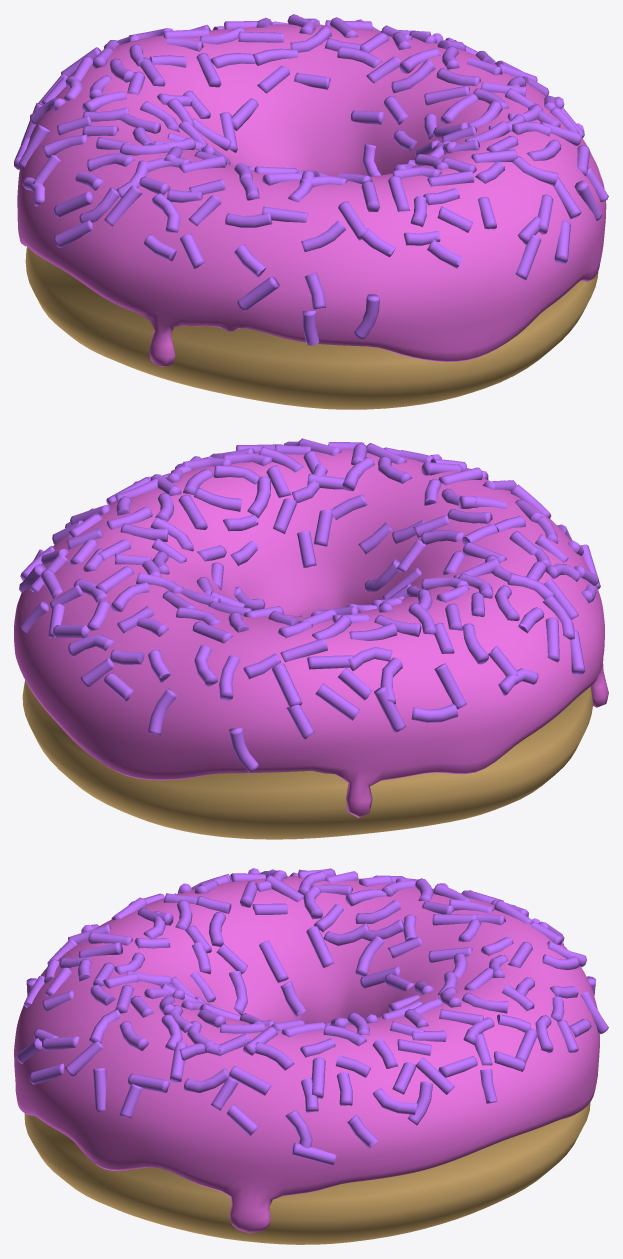
The model's file is donut.fbx.
3 views of the same model, one above another, from view 1: azimuth 30°, elevation 25°; view 2: azimuth 150°, elevation 25°; view 3: azimuth 270°, elevation 25° (orthographic). The views are drawn at different scales.
Parts seen in each view (by area): view 1: Icing, Donut, Sprinkle.099, Sprinkle.165, Sprinkle.089, Sprinkle.023, Sprinkle.033, Sprinkle.085, Sprinkle.140, Sprinkle.079, Sprinkle.067, Sprinkle.095; view 2: Icing, Donut, Sprinkle.070, Sprinkle.117, Sprinkle.071, Sprinkle.010, Sprinkle.105, Sprinkle.183, Sprinkle.156, Sprinkle.025, Sprinkle.076, Sprinkle.020 (+11 smaller); view 3: Icing, Donut, Sprinkle.110, Sprinkle.112, Sprinkle.036, Sprinkle.074, Sprinkle.012, Sprinkle.075, Sprinkle.164, Sprinkle.107, Sprinkle.162, Sprinkle.114 (+5 smaller).
Boxes of the visible parts, x1,y1,x2,y2 form: Icing: (17,24,606,366); Donut: (25,247,598,409); Sprinkle.099: (237,276,279,311); Sprinkle.165: (354,294,379,339); Sprinkle.089: (301,220,346,251); Sprinkle.023: (225,213,272,227); Sprinkle.033: (152,193,180,232); Sprinkle.085: (391,59,435,92); Sprinkle.140: (104,185,142,226); Sprinkle.079: (515,235,541,280); Sprinkle.067: (79,187,119,223); Sprinkle.095: (512,156,558,185); Icing: (14,449,608,817); Donut: (22,680,593,839); Sprinkle.070: (411,704,458,722); Sprinkle.117: (315,683,359,720); Sprinkle.071: (272,663,302,707); Sprinkle.010: (229,727,258,772); Sprinkle.105: (148,688,177,735); Sprinkle.183: (374,686,405,732); Sprinkle.156: (434,663,466,709); Sprinkle.025: (219,655,240,700); Sprinkle.076: (280,638,327,662); Sprinkle.020: (194,487,241,511); Icing: (14,876,599,1233); Donut: (24,1102,590,1244); Sprinkle.110: (372,1088,417,1114); Sprinkle.112: (184,1068,228,1092); Sprinkle.036: (306,926,333,967); Sprinkle.074: (229,1066,271,1095); Sprinkle.012: (291,1142,336,1165); Sprinkle.075: (259,940,288,983); Sprinkle.164: (415,1057,454,1094); Sprinkle.107: (407,1081,432,1125); Sprinkle.162: (93,1068,106,1111); Sprinkle.114: (355,936,384,976).
Bounding box in the file's own units: 10 × 4.12 × 10.34.
